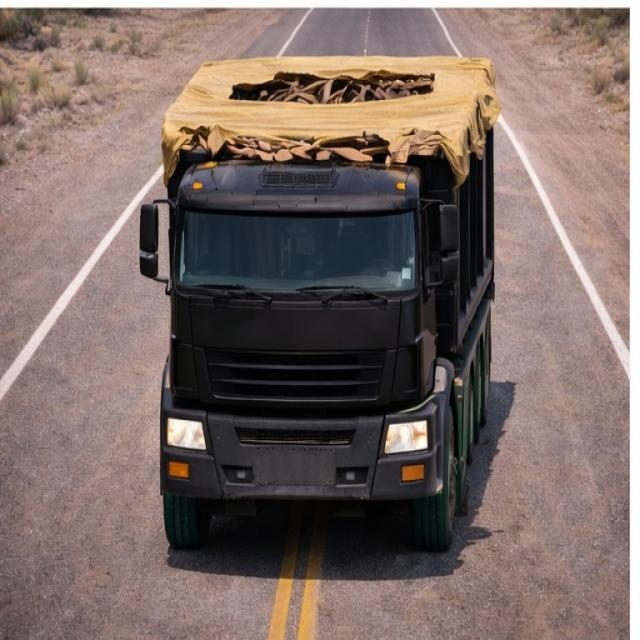trailer: (168, 53, 491, 143)
truck: (139, 32, 503, 569)
